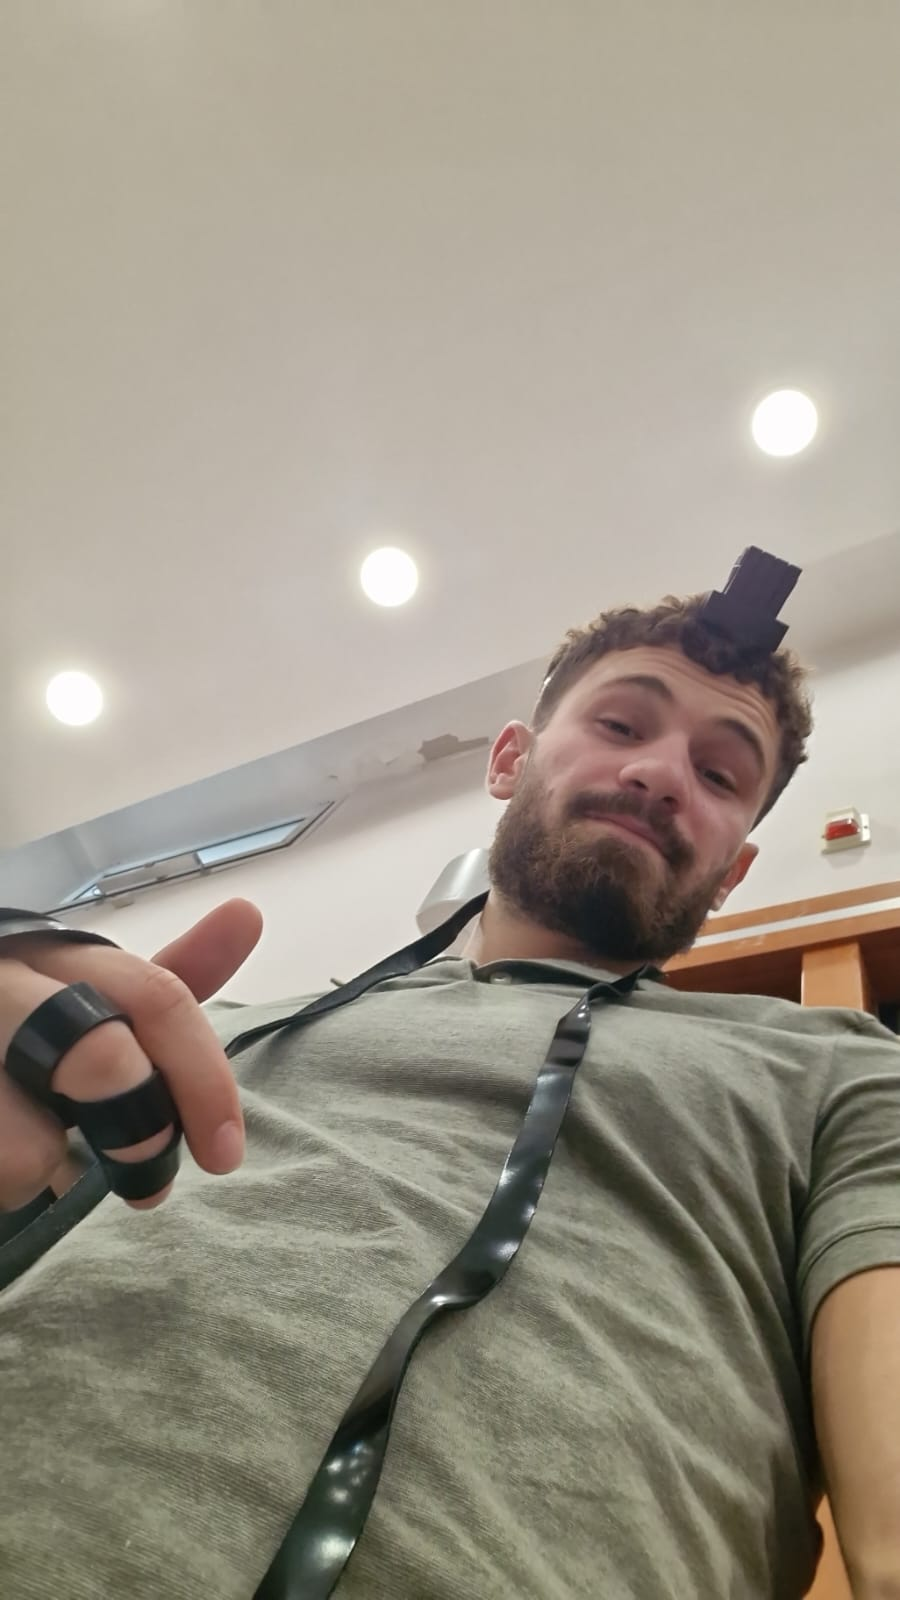tefillin: (702, 547, 800, 654)
